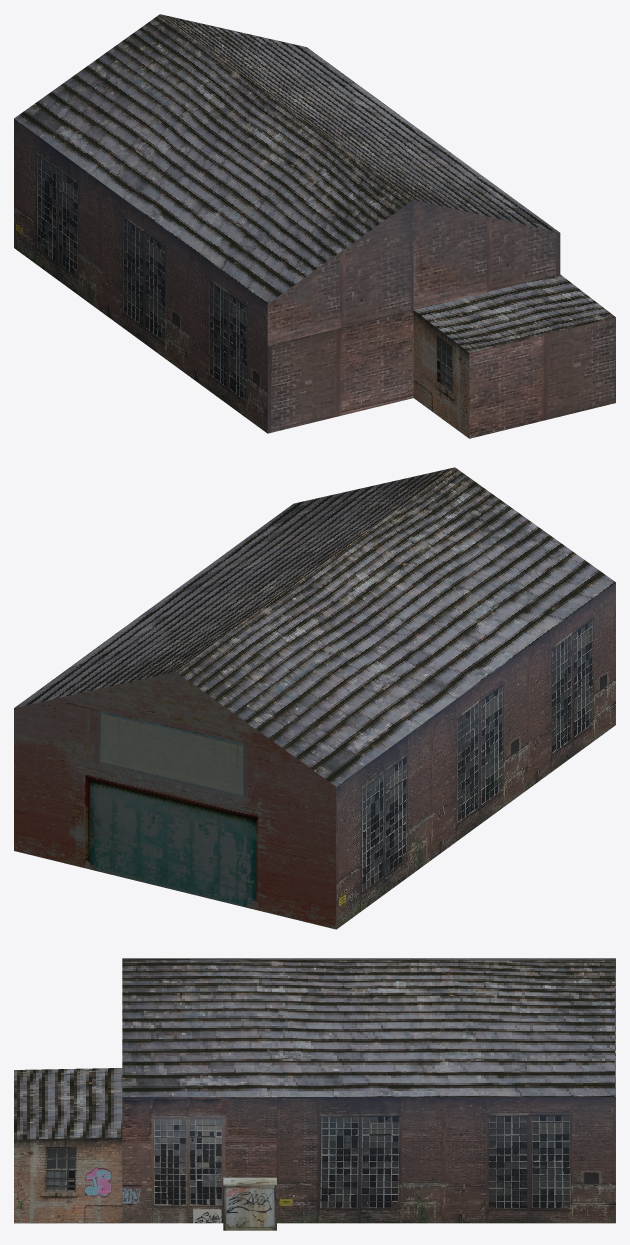
Rendered from warehouse.glb.
3 renders of one model, top to bottom at view 1: azimuth 30°, elevation 25°; view 2: azimuth 150°, elevation 25°; view 3: azimuth 270°, elevation 25°, orthographic. The views are drawn at different scales.
Parts seen in each view (by area): view 1: Cube; view 2: Cube; view 3: Cube.
Boxes of the visible parts, x1=… form: Cube: x1=14, y1=14, x2=615, y2=438; Cube: x1=14, y1=467, x2=615, y2=929; Cube: x1=14, y1=958, x2=615, y2=1230.
Size of the model in its own units: 26.79 by 16.44 by 46.5.
Materials: 1 (1 with a texture image).
